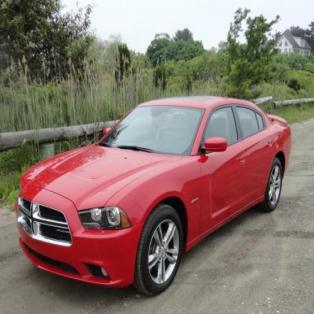Auto: (14, 94, 294, 296)
